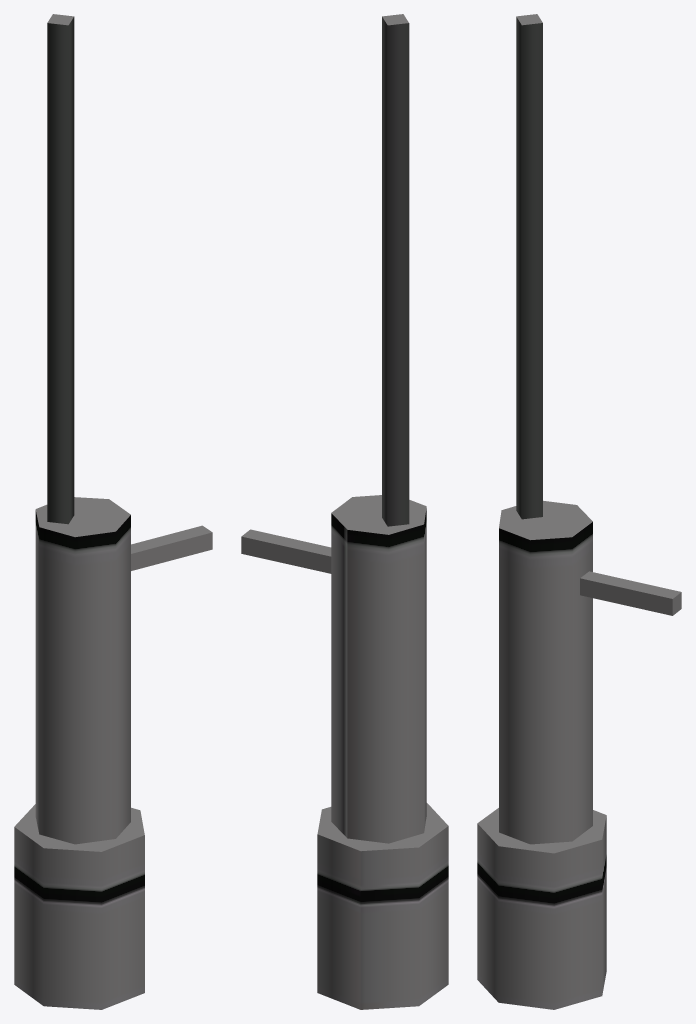
File: 00_03_outside_antenna_A.DAE
3 views of the same model, side by side, from view 1: azimuth 30°, elevation 25°; view 2: azimuth 150°, elevation 25°; view 3: azimuth 330°, elevation 25° (orthographic).
Parts seen in each view (by area): view 1: antenna_A; view 2: antenna_A; view 3: antenna_A.
Part boxes in pixels (bbox=[...]): antenna_A: bbox=[14, 14, 212, 1009]; antenna_A: bbox=[241, 14, 448, 1009]; antenna_A: bbox=[477, 14, 681, 1009].
Size of the model in its own units: 0.8662 by 4.36 by 0.5406.
